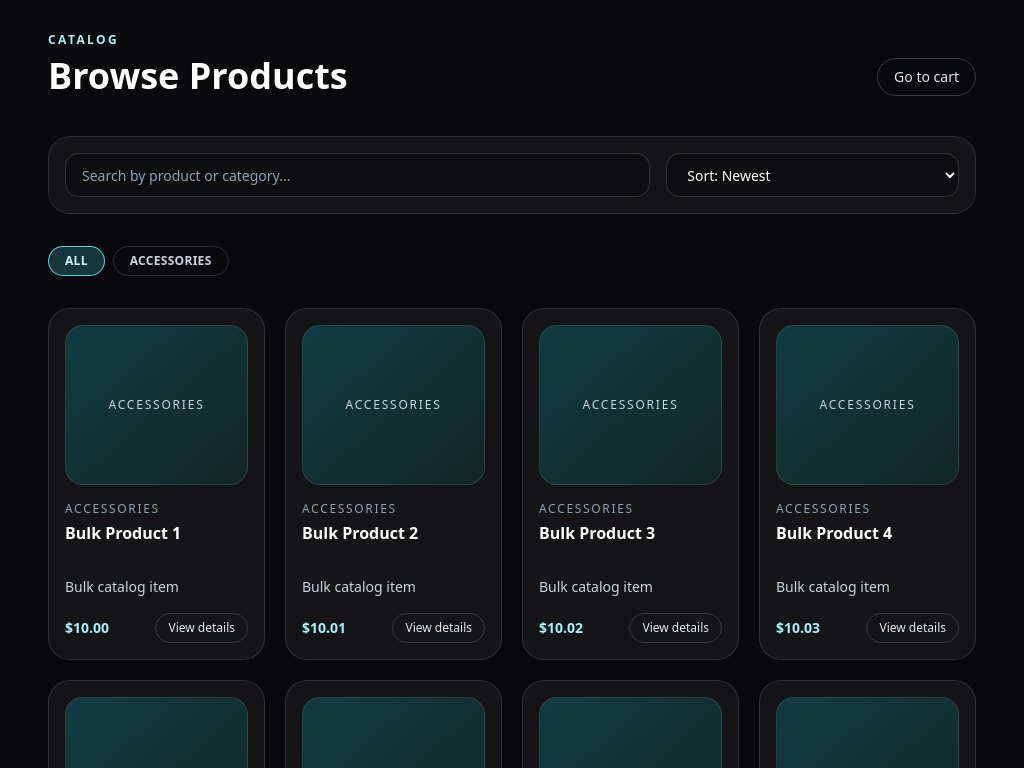
it: CatalogClient › loads additional product pages beyond the first 100 results
expect the link "Bulk Product 1" is shown: met, box [65,522,181,544]
Type "Bulk Product 120" into the field with placeholder "Search by product or category..." at (358, 175), box [65,153,650,197]
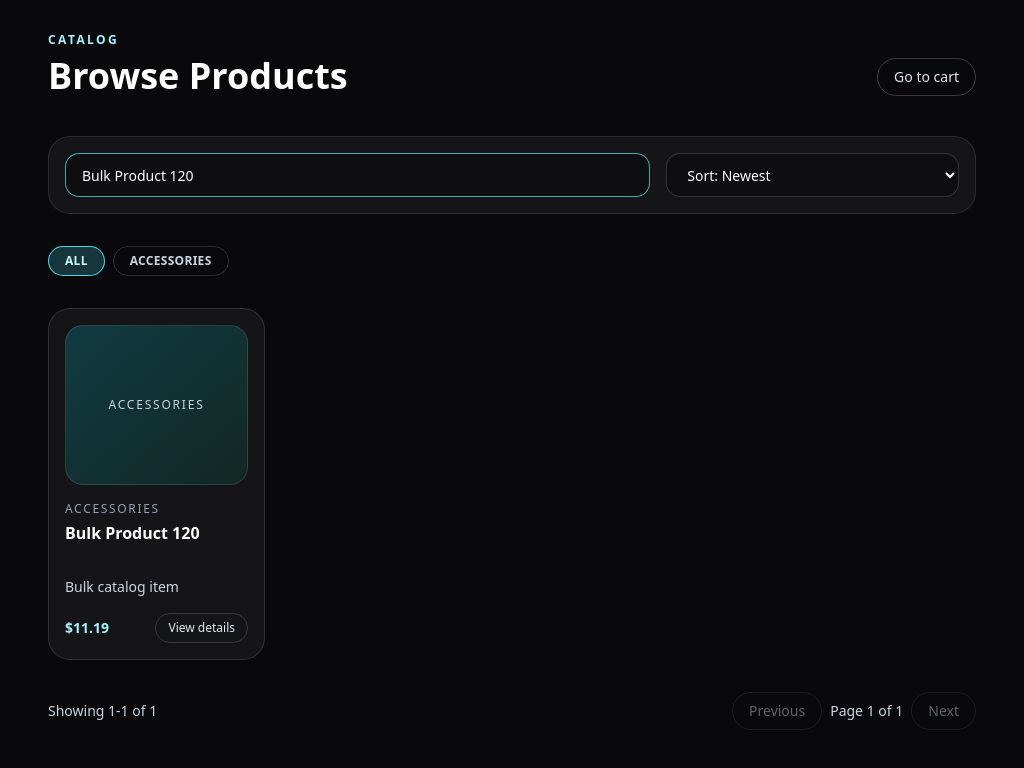
expect the link "Bulk Product 120" is shown: met, box [65,522,200,544]
